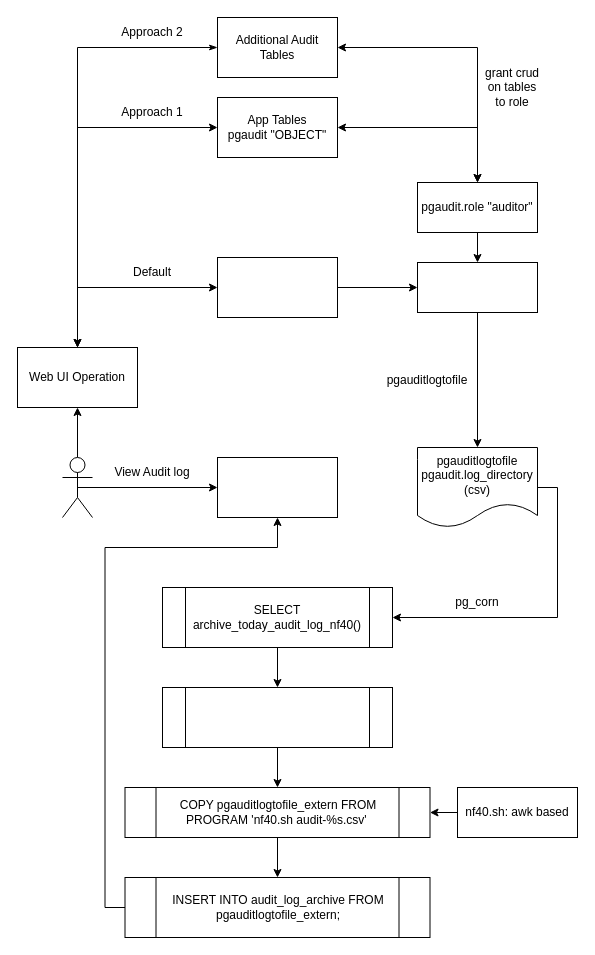
The diagram is 595 pixels wide and 955 high, and some of its shapes have lost their labels. The box of each missing label's shape, as (x1, y1, x2, y2) in pixels:
CREATE TEMPORARY TABLE pgauditlogtofile_extern: (162, 686, 392, 748)
Global pgaudit "SESSION": (216, 256, 338, 318)
postgresql.conf pgaudit: (416, 262, 538, 312)
SELECT * FROM audit_log_archive: (216, 456, 338, 518)
User: (62, 456, 92, 518)
